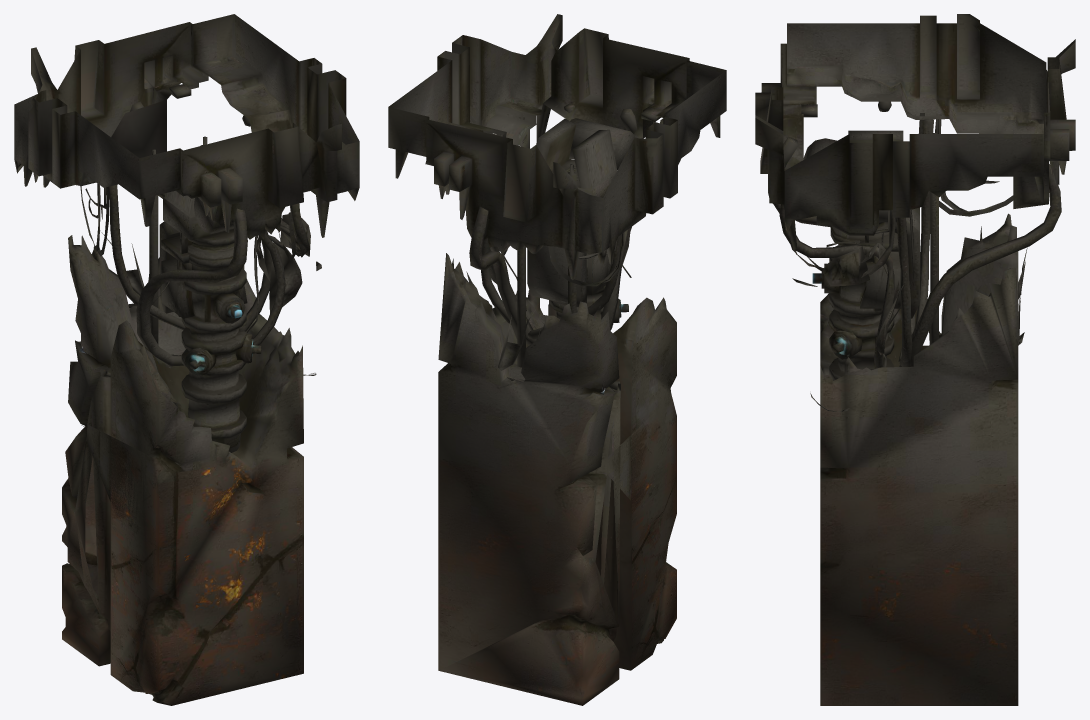
Rendered from selected.glb.
The picture shows the model from 3 angles, left to right: view 1: azimuth 30°, elevation 25°; view 2: azimuth 150°, elevation 25°; view 3: azimuth 270°, elevation 25°; orthographic projection. The views are drawn at different scales.
Parts seen in each view (by area): view 1: tripo_node_97638d45-9f36-4900-a22c-b6a624d493dc; view 2: tripo_node_97638d45-9f36-4900-a22c-b6a624d493dc; view 3: tripo_node_97638d45-9f36-4900-a22c-b6a624d493dc.
Boxes of the visible parts, left/top/right/bottom form: tripo_node_97638d45-9f36-4900-a22c-b6a624d493dc: left=14, top=14, right=359, bottom=705; tripo_node_97638d45-9f36-4900-a22c-b6a624d493dc: left=388, top=14, right=726, bottom=705; tripo_node_97638d45-9f36-4900-a22c-b6a624d493dc: left=755, top=14, right=1075, bottom=705.
Bounding box in the file's own units: 0.4668 × 0.998 × 0.4902.
1 material, 1 textured.
